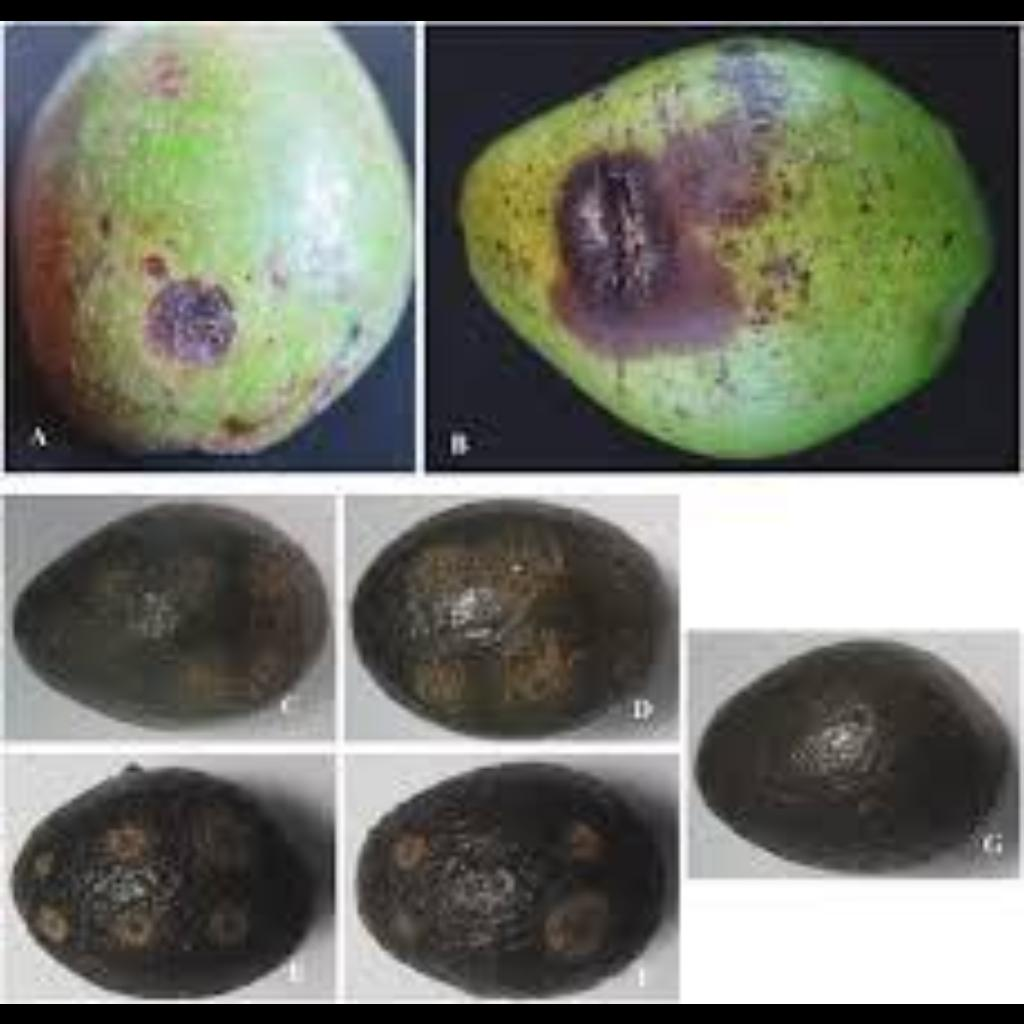Anthracnose: (432, 68, 954, 378), (16, 141, 386, 423)
